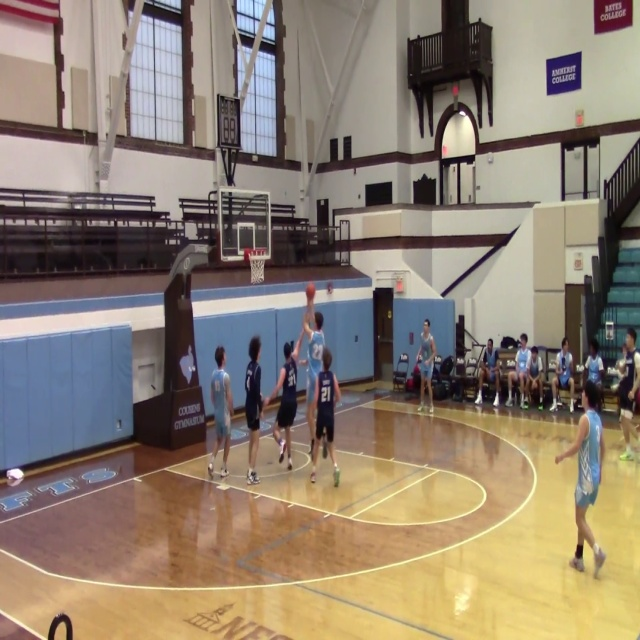Basketball: (6, 468, 24, 486), (306, 284, 315, 297), (508, 371, 517, 382)
